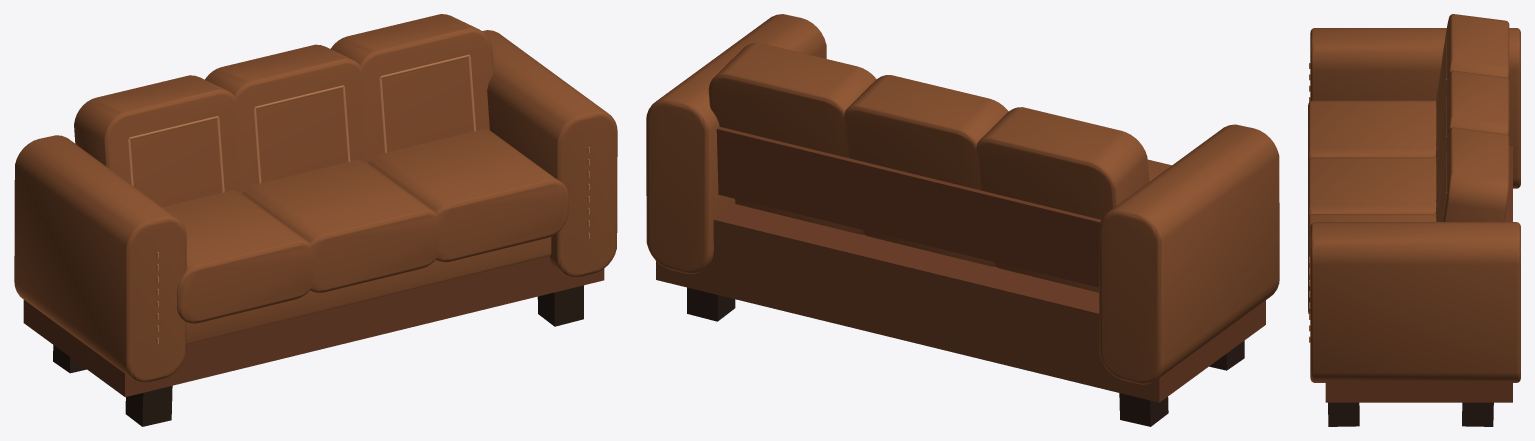
File: cognac-leather-sofa-seatWidth-min.glb
The picture shows the model from 3 angles, left to right: view 1: azimuth 30°, elevation 25°; view 2: azimuth 150°, elevation 25°; view 3: azimuth 270°, elevation 25°; orthographic projection. The views are drawn at different scales.
Visible parts, largest first — view 1: sofa-part-28, sofa-part-4, sofa-part-7, seat-cushion-1-part-0, seat-cushion-2-part-0, back-cushion-3-part-0, back-cushion-1-part-0, back-cushion-2-part-0, seat-cushion-3-part-0, sofa-part-5, sofa-part-2, sofa-part-0; view 2: sofa-part-4, sofa-part-28, sofa-part-6, sofa-part-7, back-cushion-3-part-0, back-cushion-1-part-0, back-cushion-2-part-0, sofa-part-3, sofa-part-1, seat-cushion-3-part-0, seat-cushion-2-part-0, seat-cushion-1-part-0; view 3: sofa-part-7, sofa-part-28, seat-cushion-3-part-0, seat-cushion-2-part-0, back-cushion-1-part-0, sofa-part-4, back-cushion-3-part-0, back-cushion-2-part-0, seat-cushion-1-part-0, sofa-part-1, sofa-part-0.
Part boxes in pixels (left/top/right/bottom): sofa-part-28: left=14, top=135, right=186, bottom=382; sofa-part-4: left=23, top=256, right=604, bottom=397; sofa-part-7: left=482, top=30, right=617, bottom=277; seat-cushion-1-part-0: left=368, top=129, right=568, bottom=262; seat-cushion-2-part-0: left=242, top=160, right=440, bottom=292; back-cushion-3-part-0: left=74, top=75, right=240, bottom=207; back-cushion-1-part-0: left=330, top=14, right=493, bottom=162; back-cushion-2-part-0: left=205, top=44, right=369, bottom=193; seat-cushion-3-part-0: left=162, top=190, right=314, bottom=323; sofa-part-5: left=186, top=237, right=551, bottom=344; sofa-part-2: left=125, top=385, right=172, bottom=426; sofa-part-0: left=537, top=285, right=583, bottom=326; sofa-part-4: left=656, top=204, right=1265, bottom=402; sofa-part-28: left=1099, top=124, right=1279, bottom=384; sofa-part-6: left=716, top=126, right=1101, bottom=287; sofa-part-7: left=646, top=14, right=826, bottom=273; back-cushion-3-part-0: left=976, top=107, right=1149, bottom=219; back-cushion-1-part-0: left=708, top=42, right=876, bottom=157; back-cushion-2-part-0: left=843, top=75, right=1008, bottom=190; sofa-part-3: left=1119, top=393, right=1168, bottom=426; sofa-part-1: left=687, top=287, right=735, bottom=321; seat-cushion-3-part-0: left=995, top=159, right=1171, bottom=292; seat-cushion-2-part-0: left=863, top=230, right=995, bottom=266; seat-cushion-1-part-0: left=735, top=199, right=863, bottom=234; sofa-part-7: left=1310, top=222, right=1520, bottom=382; sofa-part-28: left=1310, top=28, right=1520, bottom=188; seat-cushion-3-part-0: left=1308, top=100, right=1436, bottom=161; seat-cushion-2-part-0: left=1308, top=157, right=1436, bottom=217; back-cushion-1-part-0: left=1436, top=127, right=1509, bottom=221; sofa-part-4: left=1325, top=146, right=1512, bottom=402; back-cushion-3-part-0: left=1435, top=14, right=1509, bottom=156; back-cushion-2-part-0: left=1435, top=70, right=1509, bottom=213; seat-cushion-1-part-0: left=1308, top=214, right=1436, bottom=313; sofa-part-1: left=1462, top=402, right=1493, bottom=426; sofa-part-0: left=1328, top=402, right=1359, bottom=426.
Bounding box in the file's own units: 2.19 × 1.08 × 0.886.
